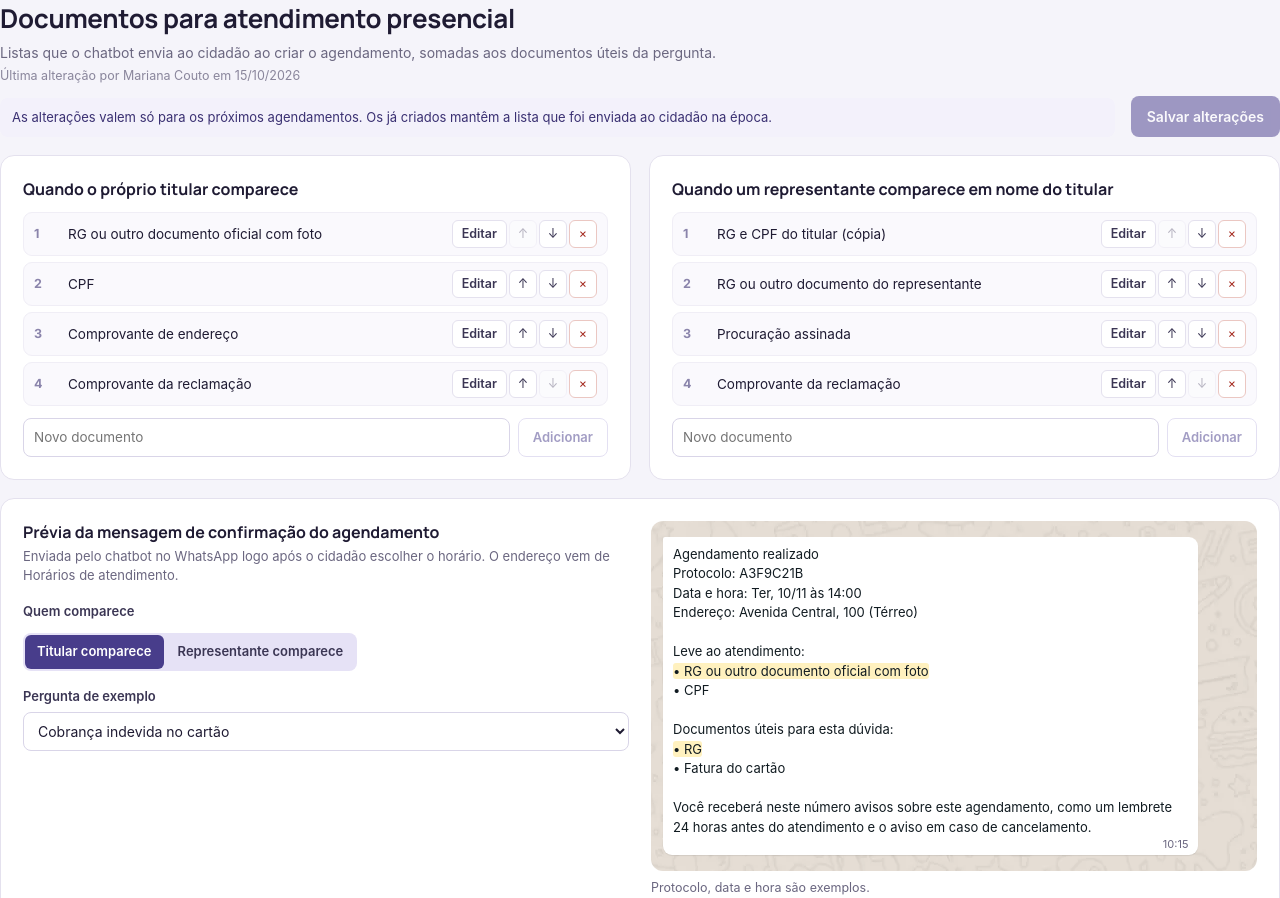
it: DocumentsPage › 403 ao salvar informa a falta de permissão
Click the button named "Remover CPF" at (583, 284), box [569,270,597,298]
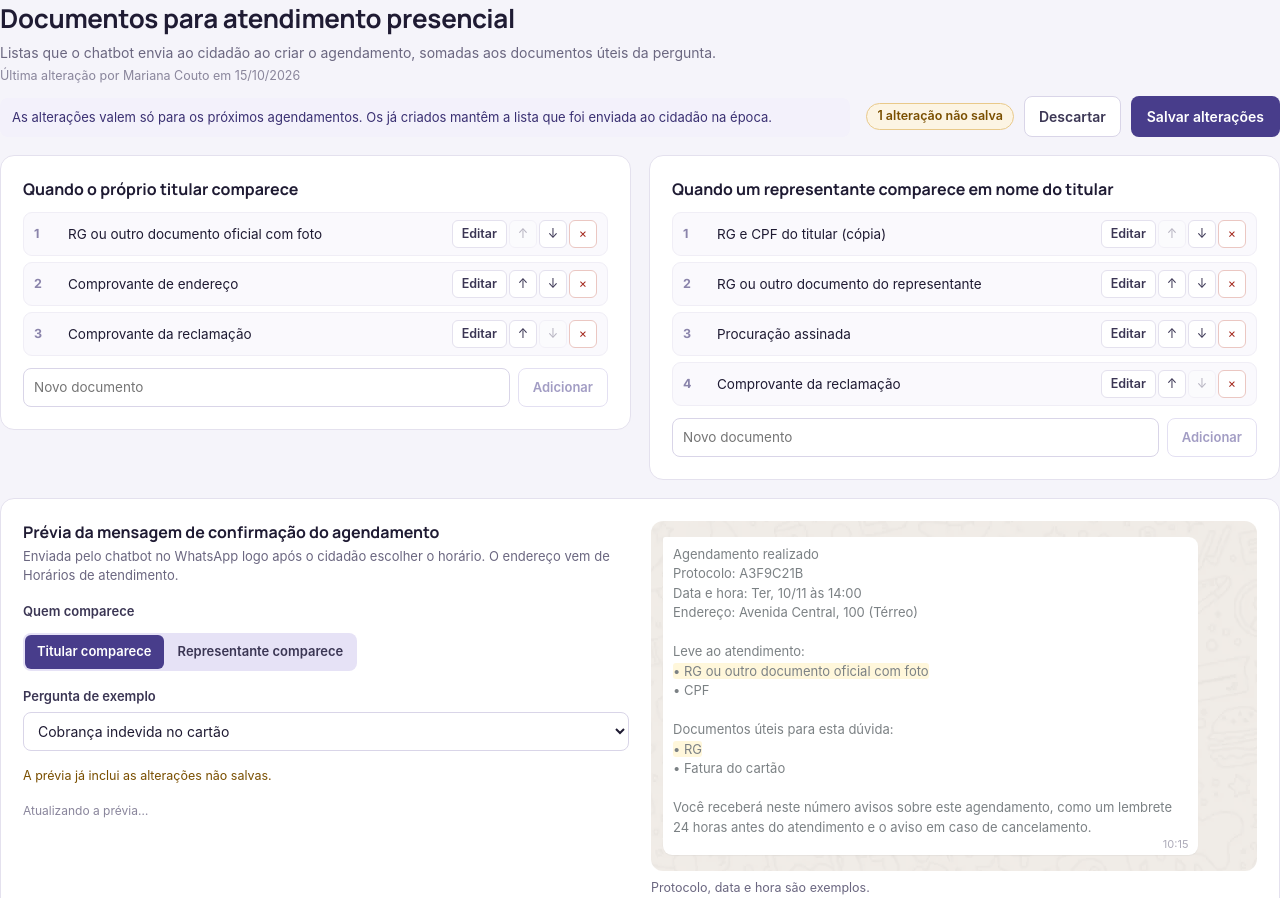
Click the button "Salvar alterações" at (1205, 117), box [1131,96,1279,137]
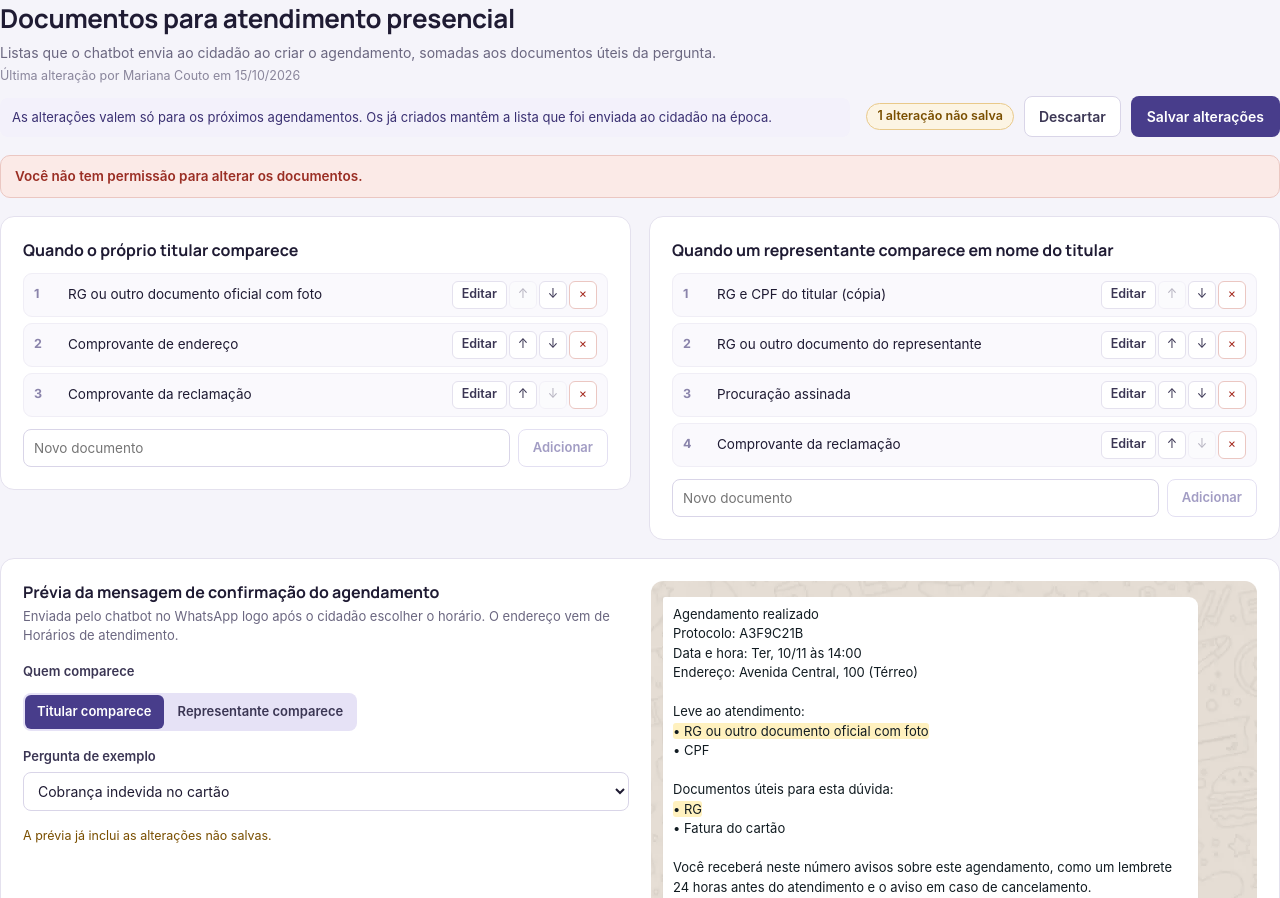
Expected: the message reads "Você não tem permissão para alterar os documentos.", [15,168,362,184]
